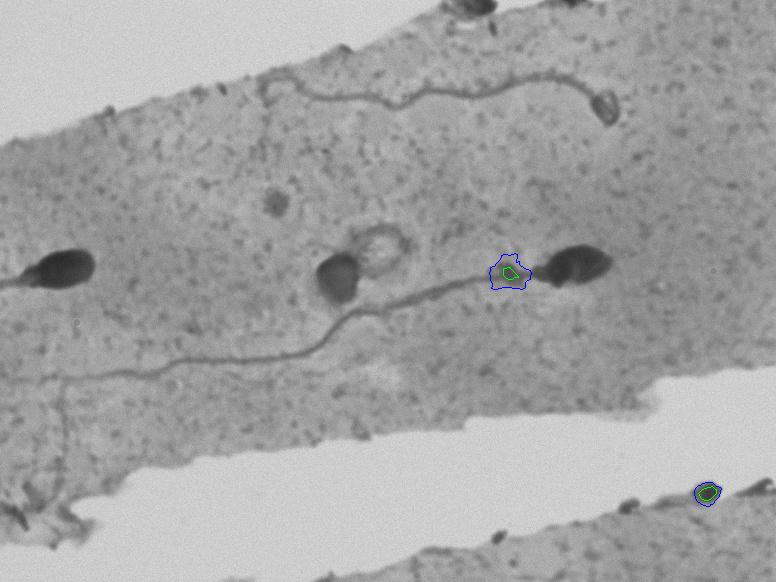Abnormal: (127, 196, 627, 432)
